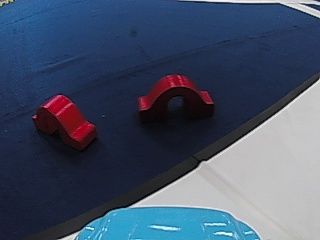bridge: (135, 70, 216, 120), (33, 92, 99, 150)
